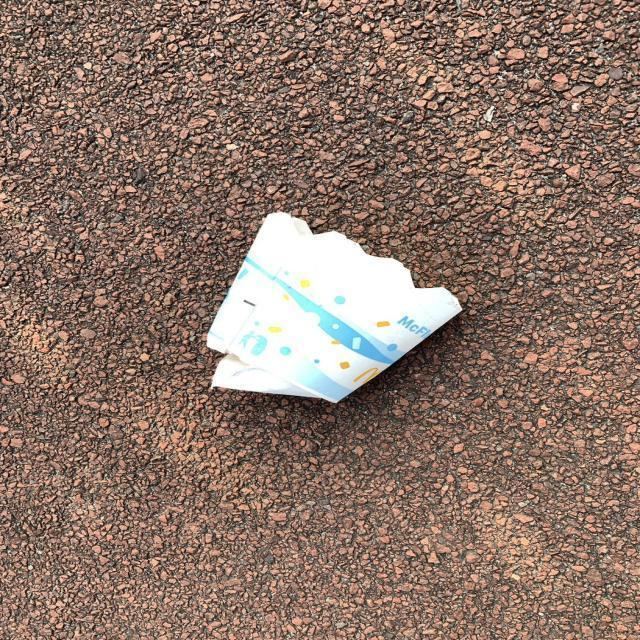Paper: (203, 207, 463, 406)
